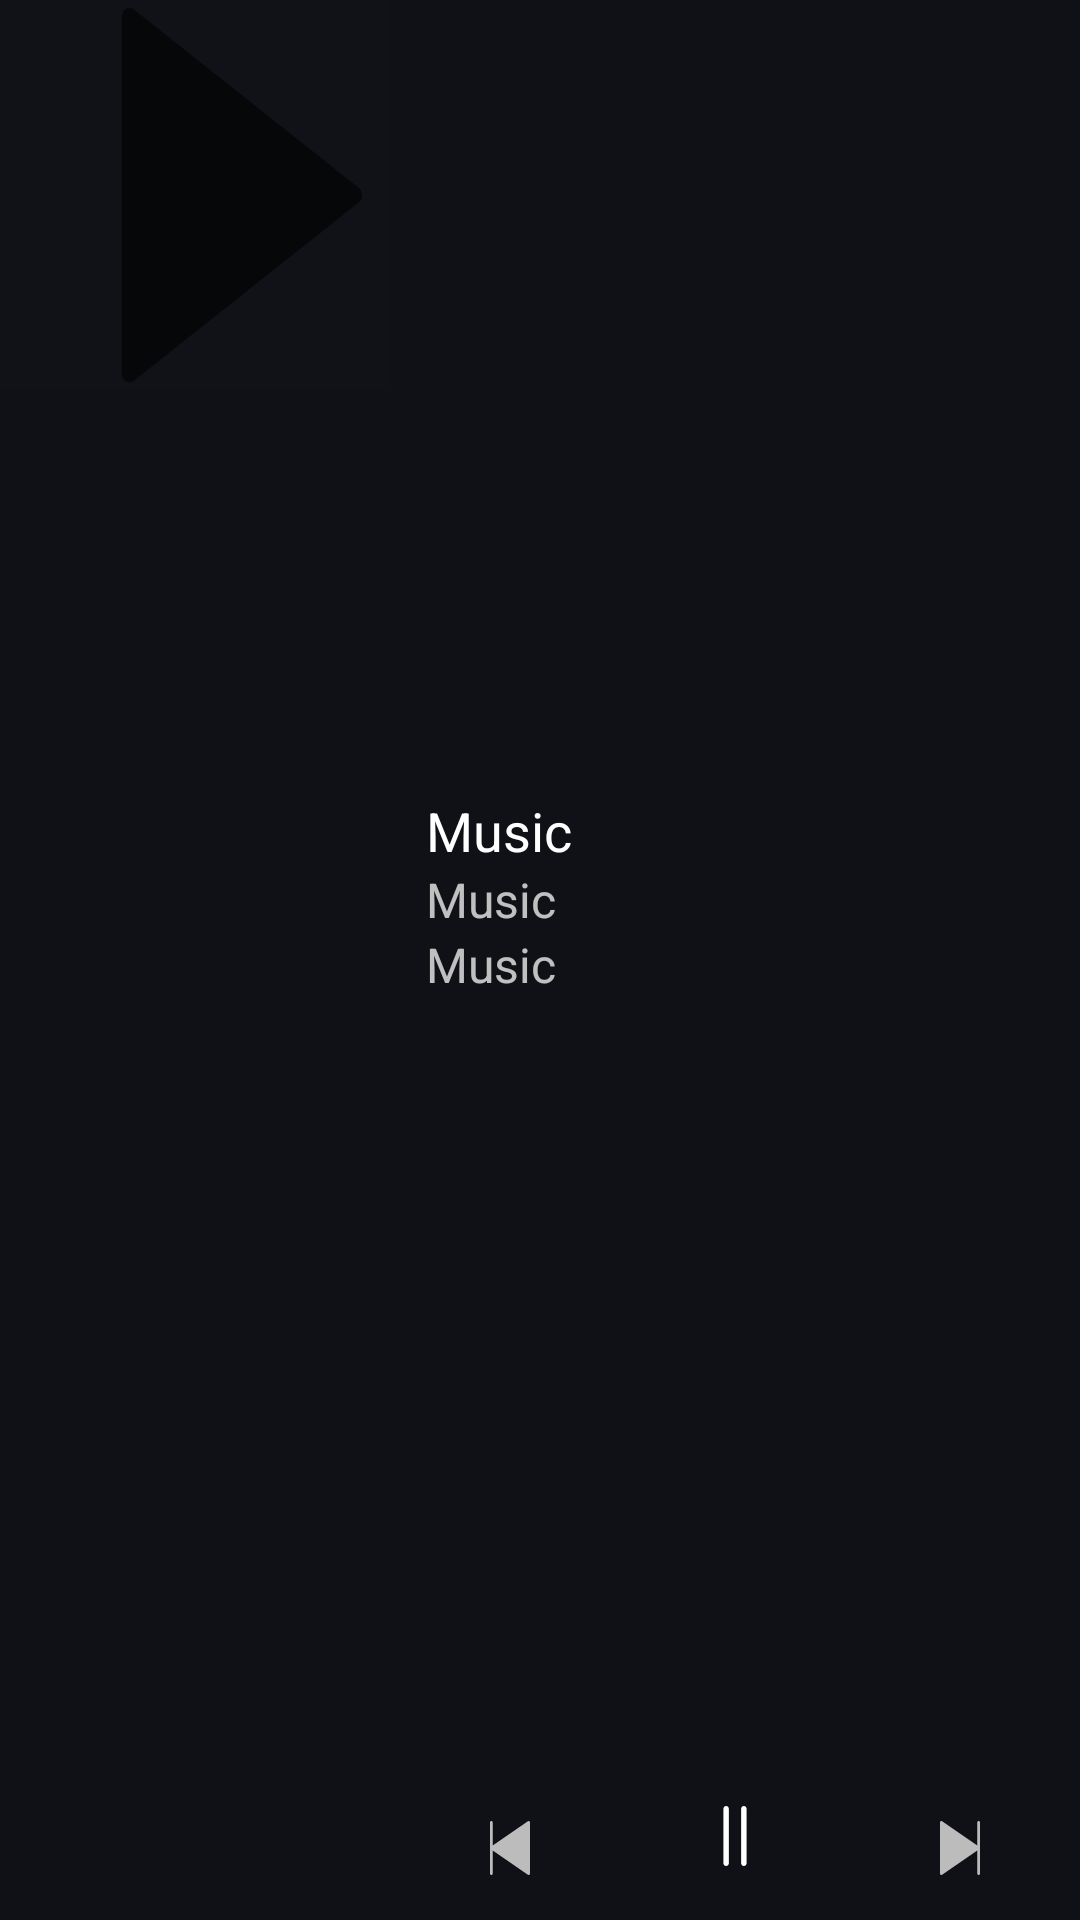

Named icons in this screenshot (1080px x 1920px) and their centers, (x=x, y=y):
pause: (x=735, y=1836)
